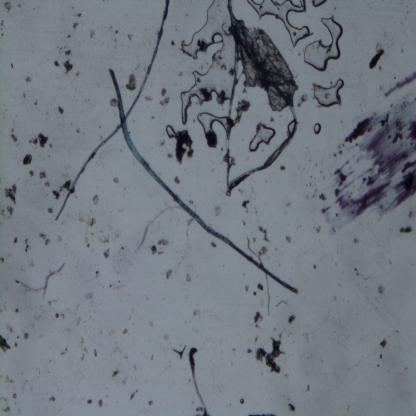Air bubble: (177, 0, 234, 123), (244, 0, 312, 45), (303, 15, 343, 72), (309, 77, 349, 113), (244, 122, 274, 154), (196, 110, 229, 134), (286, 120, 295, 136), (311, 0, 327, 9), (166, 125, 177, 138), (312, 121, 321, 136), (240, 396, 245, 406)
Background material: (225, 0, 294, 112), (255, 337, 286, 376), (176, 130, 197, 164), (1, 182, 18, 219), (365, 45, 387, 72), (232, 98, 251, 124), (150, 237, 168, 256), (30, 134, 50, 150), (205, 128, 218, 152), (51, 181, 68, 199), (84, 210, 99, 227), (61, 60, 78, 75), (242, 409, 278, 416), (96, 232, 112, 247), (172, 345, 187, 360), (79, 338, 89, 360), (297, 91, 309, 109), (107, 278, 124, 290), (21, 152, 33, 168), (252, 311, 263, 327), (0, 335, 11, 351), (216, 54, 228, 68), (217, 90, 228, 105), (127, 74, 137, 90), (101, 246, 112, 260), (260, 225, 269, 242), (40, 231, 50, 246), (108, 93, 118, 108), (201, 86, 211, 100), (68, 20, 82, 30), (257, 245, 266, 259), (111, 366, 121, 378), (45, 394, 57, 404), (197, 40, 207, 52), (1, 0, 13, 10), (51, 56, 60, 68), (130, 387, 139, 399), (379, 338, 388, 350), (87, 26, 96, 38), (23, 72, 32, 84), (312, 224, 322, 234), (286, 402, 296, 412), (214, 204, 223, 215), (242, 199, 249, 213), (165, 268, 173, 280), (92, 194, 100, 206), (24, 236, 30, 252), (287, 315, 296, 325), (113, 228, 122, 238), (54, 232, 62, 243), (160, 99, 171, 107), (311, 188, 318, 200), (173, 174, 180, 186), (10, 130, 17, 142), (257, 282, 266, 291), (209, 239, 218, 248), (158, 138, 166, 148), (72, 124, 80, 134), (284, 234, 292, 244), (37, 172, 47, 180), (243, 282, 251, 292), (92, 347, 99, 358), (185, 272, 191, 284), (98, 396, 104, 408), (192, 308, 201, 316), (126, 33, 134, 42), (113, 177, 121, 186), (353, 265, 359, 276), (55, 314, 65, 320), (7, 375, 13, 385), (276, 301, 286, 307), (228, 66, 234, 76), (8, 326, 15, 334), (95, 267, 100, 277), (1, 407, 11, 412), (48, 205, 53, 215), (58, 106, 63, 116), (59, 348, 66, 355), (320, 194, 327, 201), (352, 236, 359, 243), (147, 96, 154, 103), (161, 88, 167, 96), (10, 60, 14, 72), (149, 352, 155, 360), (147, 400, 155, 406), (246, 348, 254, 354), (12, 342, 18, 350), (64, 48, 70, 56), (13, 234, 17, 245), (29, 171, 35, 178), (237, 189, 244, 195), (86, 293, 92, 300), (25, 333, 30, 341), (13, 392, 18, 400), (32, 97, 37, 105), (270, 114, 275, 122), (0, 254, 4, 264), (122, 326, 127, 334), (122, 378, 127, 386), (178, 70, 184, 76), (171, 39, 176, 46), (281, 164, 286, 171), (85, 400, 92, 405), (166, 154, 172, 159), (13, 308, 18, 314), (313, 263, 318, 268), (45, 182, 50, 187), (1, 20, 4, 28), (115, 30, 119, 35), (254, 292, 258, 297), (287, 202, 290, 208), (16, 335, 20, 339), (79, 14, 82, 18)
Cellulose filter fibre: (55, 0, 170, 221), (219, 88, 300, 202), (138, 206, 179, 253), (17, 261, 65, 296), (188, 347, 210, 416), (264, 273, 271, 318)
Microfibre: (109, 66, 299, 295)
Pen: (319, 92, 416, 238), (385, 70, 416, 100)
